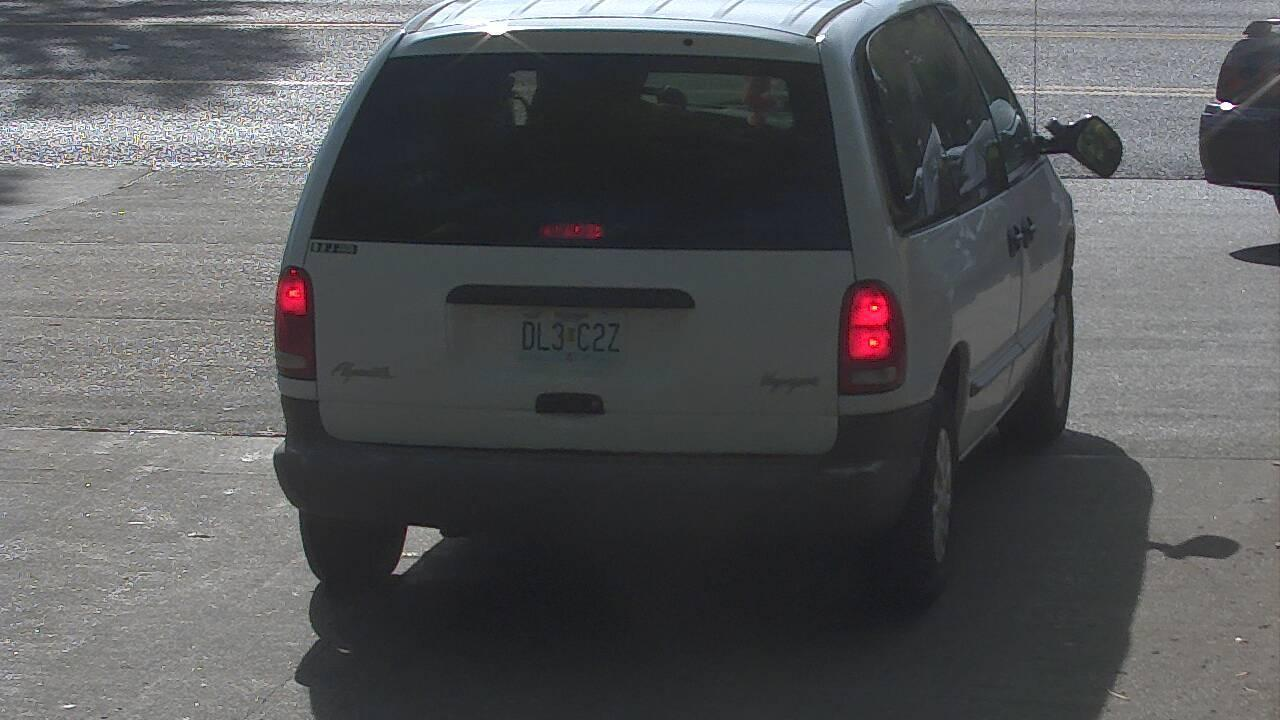placa de veiculo: (484, 295, 644, 373)
